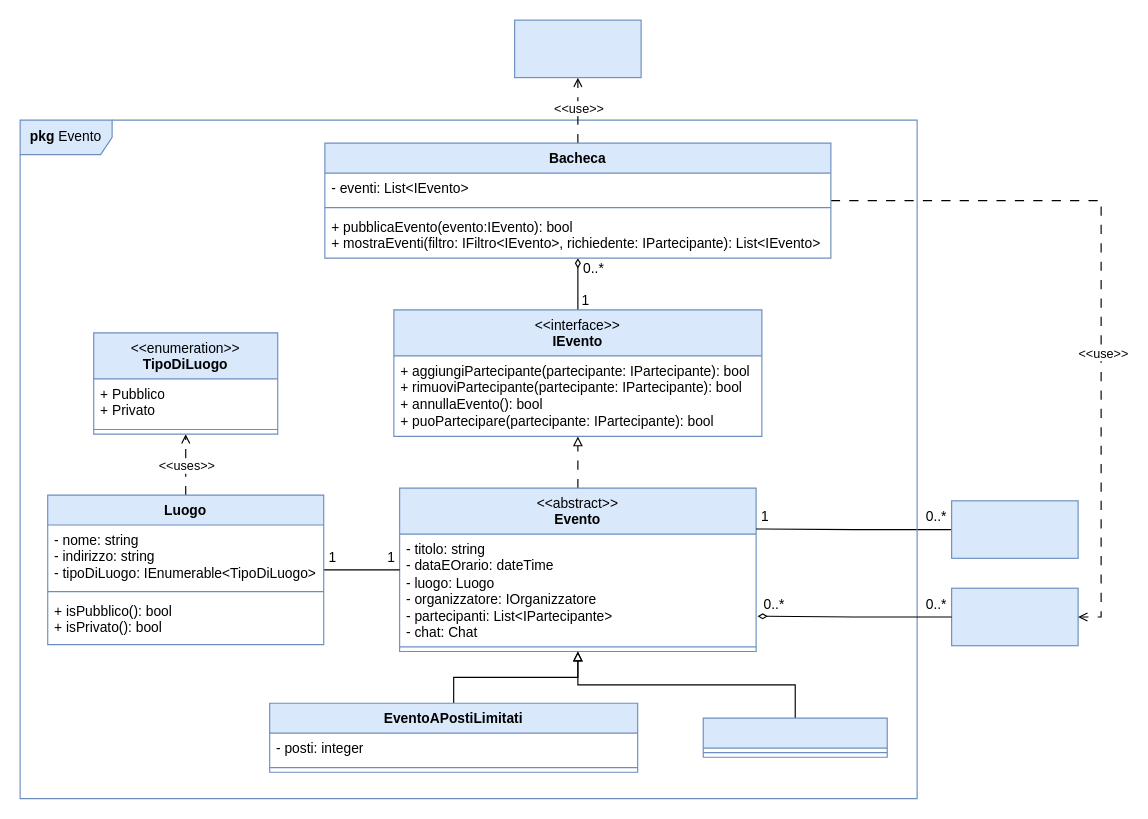
This 1148x819 diagram has some shape labels left out. The centre of each missing label's shape, as x and y in pixels:
"<<interface>> IFiltro<T>" belongs at point (577, 48).
"<<interface>> IOrganizzatore" belongs at point (1014, 529).
"<interface> IPartecipante" belongs at point (1014, 616).
"EventoAPostiIllimitati" belongs at point (794, 737).
